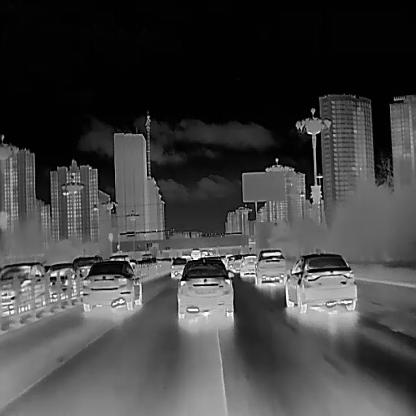car: (286, 252, 356, 313), (176, 257, 234, 318), (81, 259, 141, 311), (0, 260, 47, 315), (41, 262, 81, 304), (253, 248, 288, 285), (70, 255, 103, 280), (238, 253, 258, 278), (226, 254, 240, 273)
truck: (190, 247, 200, 258)
